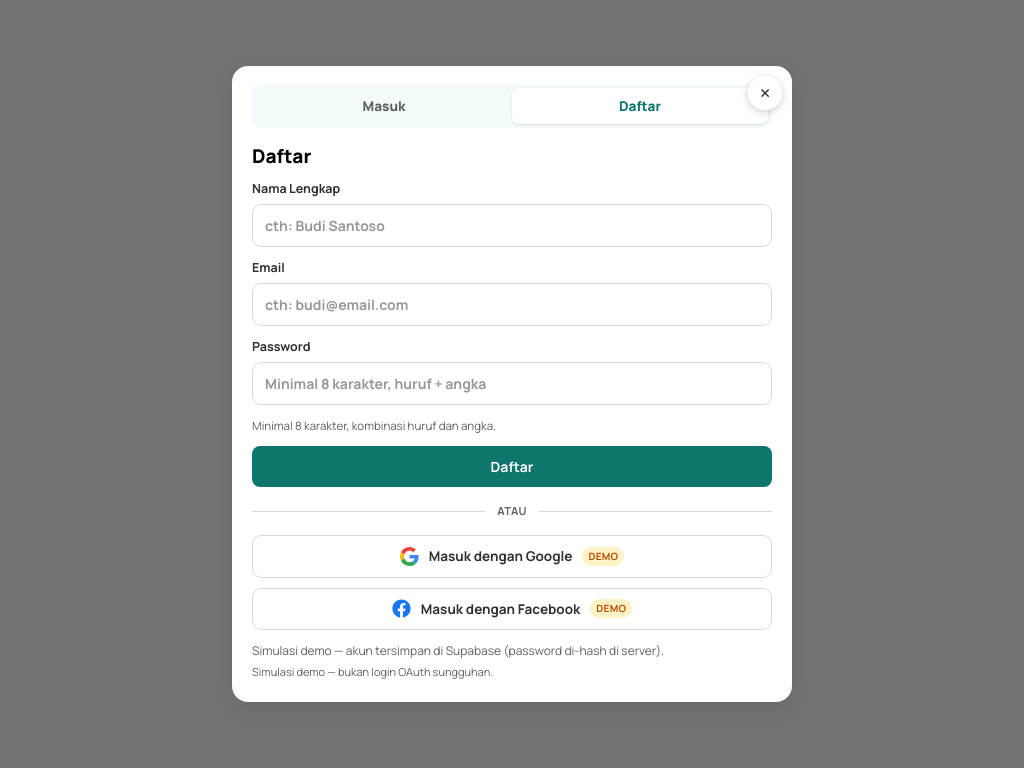
Scenario: AuthModal › menampilkan pesan khusus saat email sudah terdaftar
Type "Siti Lain" into the field labelled "Nama Lengkap" at (512,226), box [252,204,772,247]
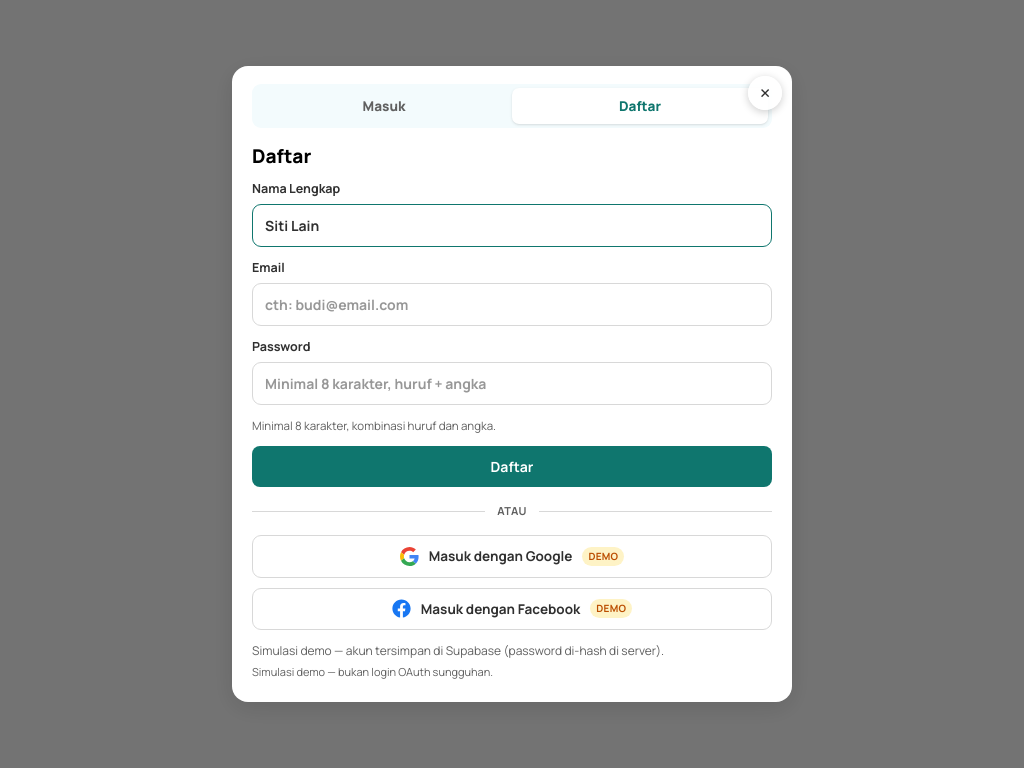
Type "siti@email.com" into the field labelled "Email" at (512,304), box [252,283,772,326]
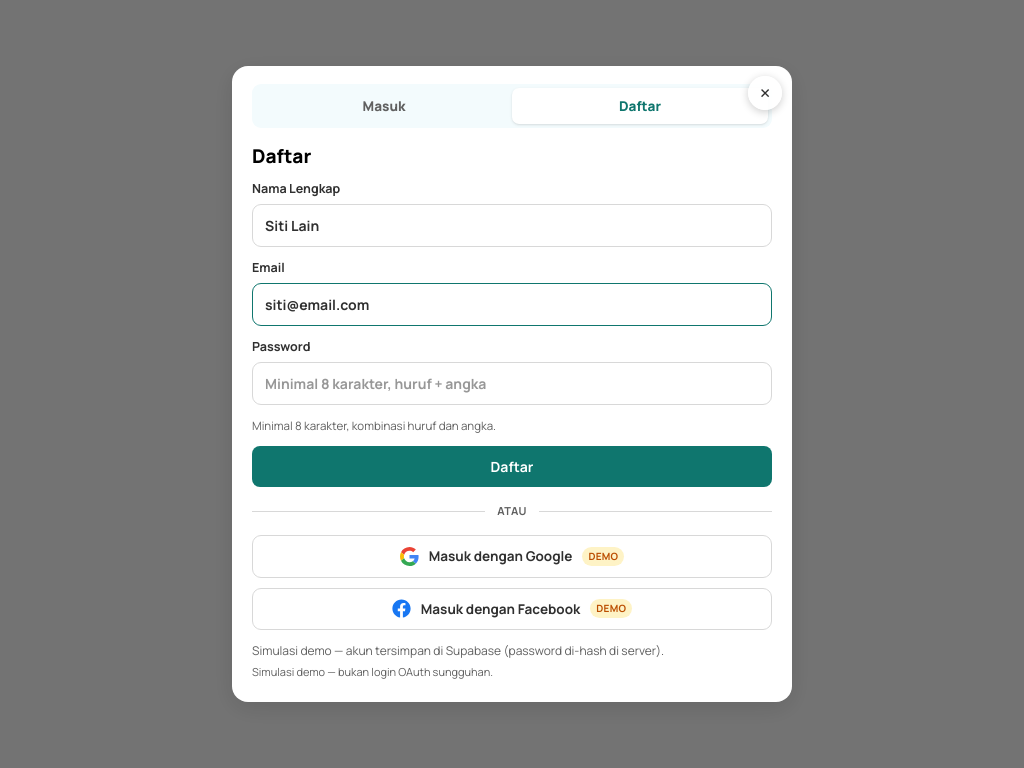
Type "rahasia123" into the password field labelled "Password" at (512,383), box [252,362,772,405]
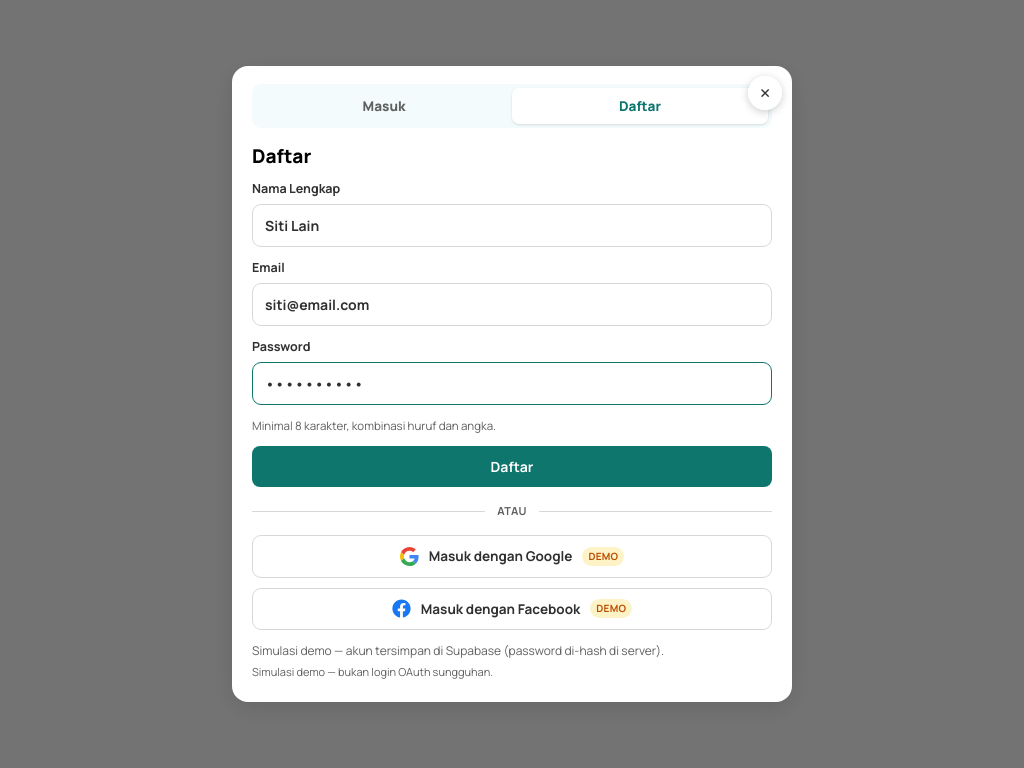
Click the button "Daftar" below "Email" at (512,466), box [252,446,772,487]
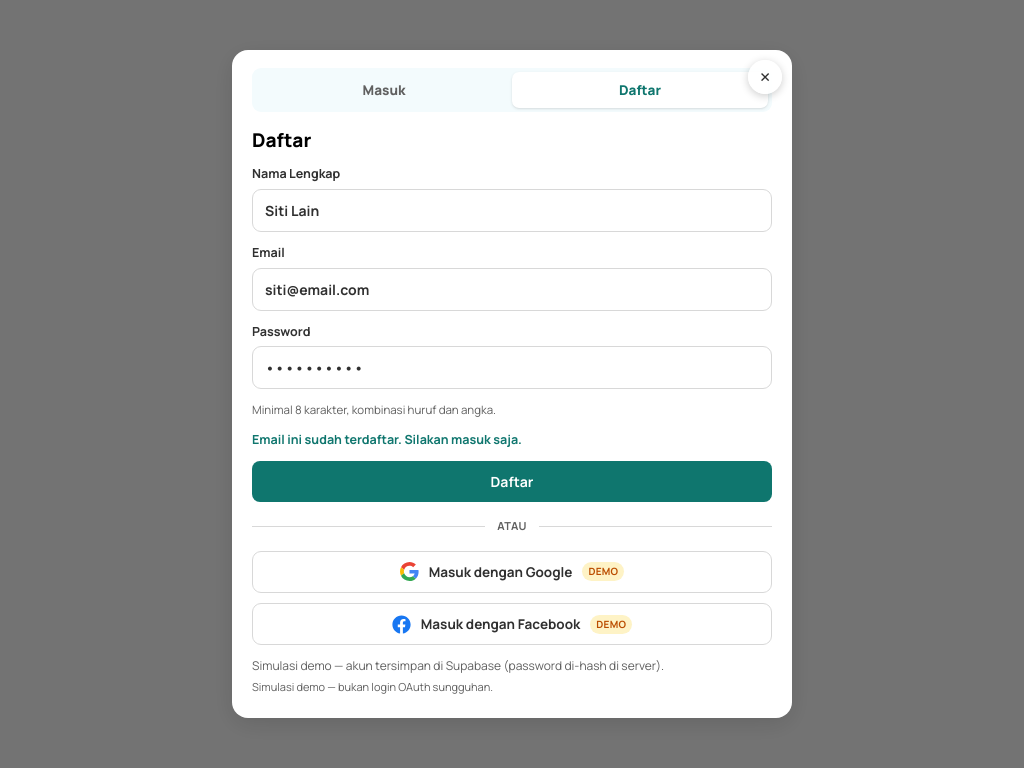
Result: the message shows "Email ini sudah terdaftar." at [252,431,522,448]
